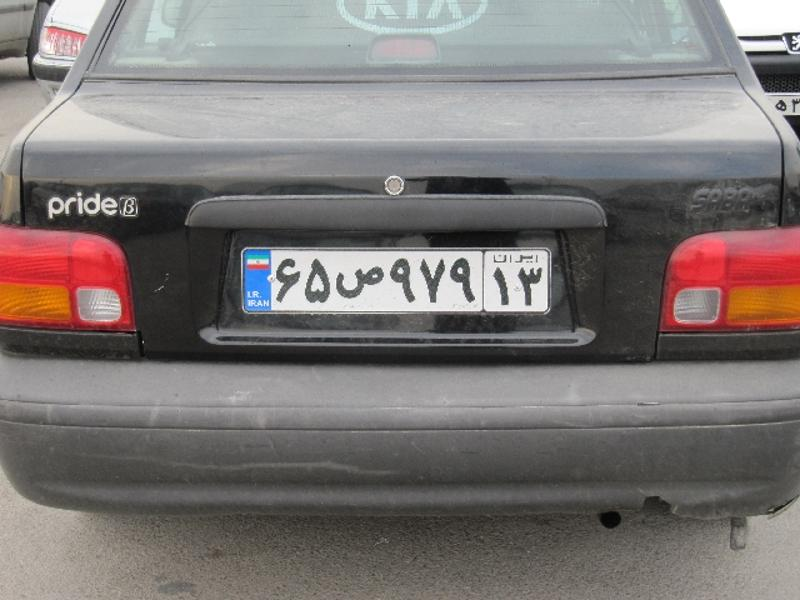Plate: (227, 241, 567, 324)
